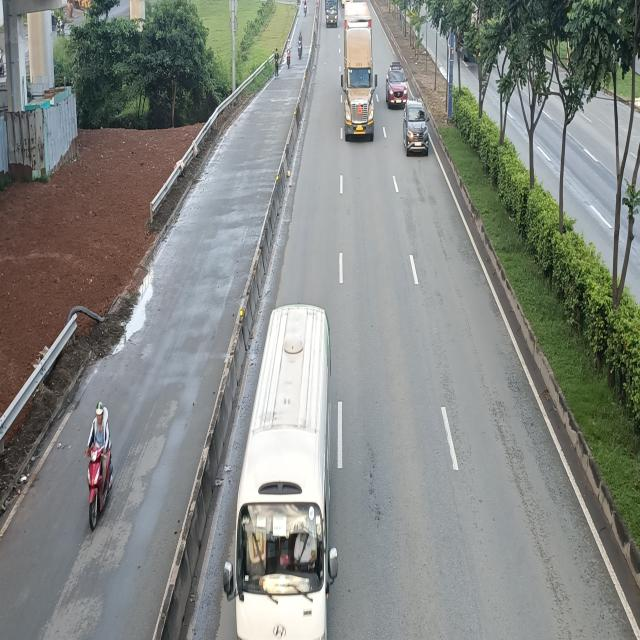car: (404, 98, 430, 154), (384, 62, 406, 108)
coach: (222, 302, 338, 636)
container: (342, 3, 378, 141)
